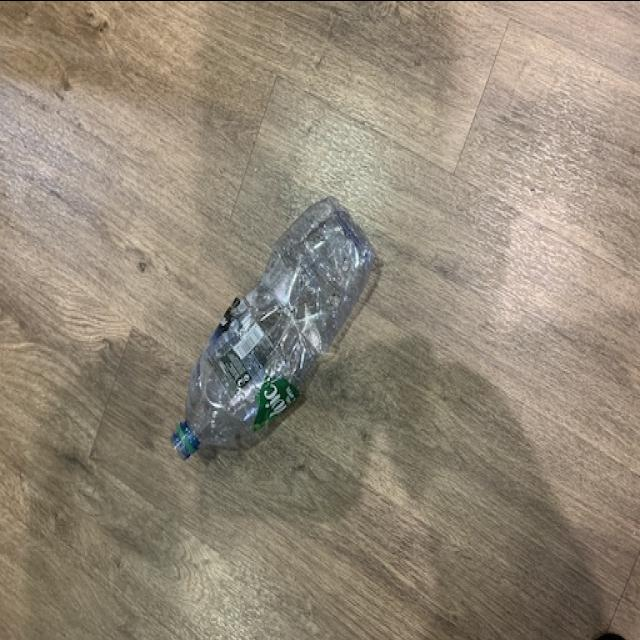litter: (168, 190, 388, 463)
